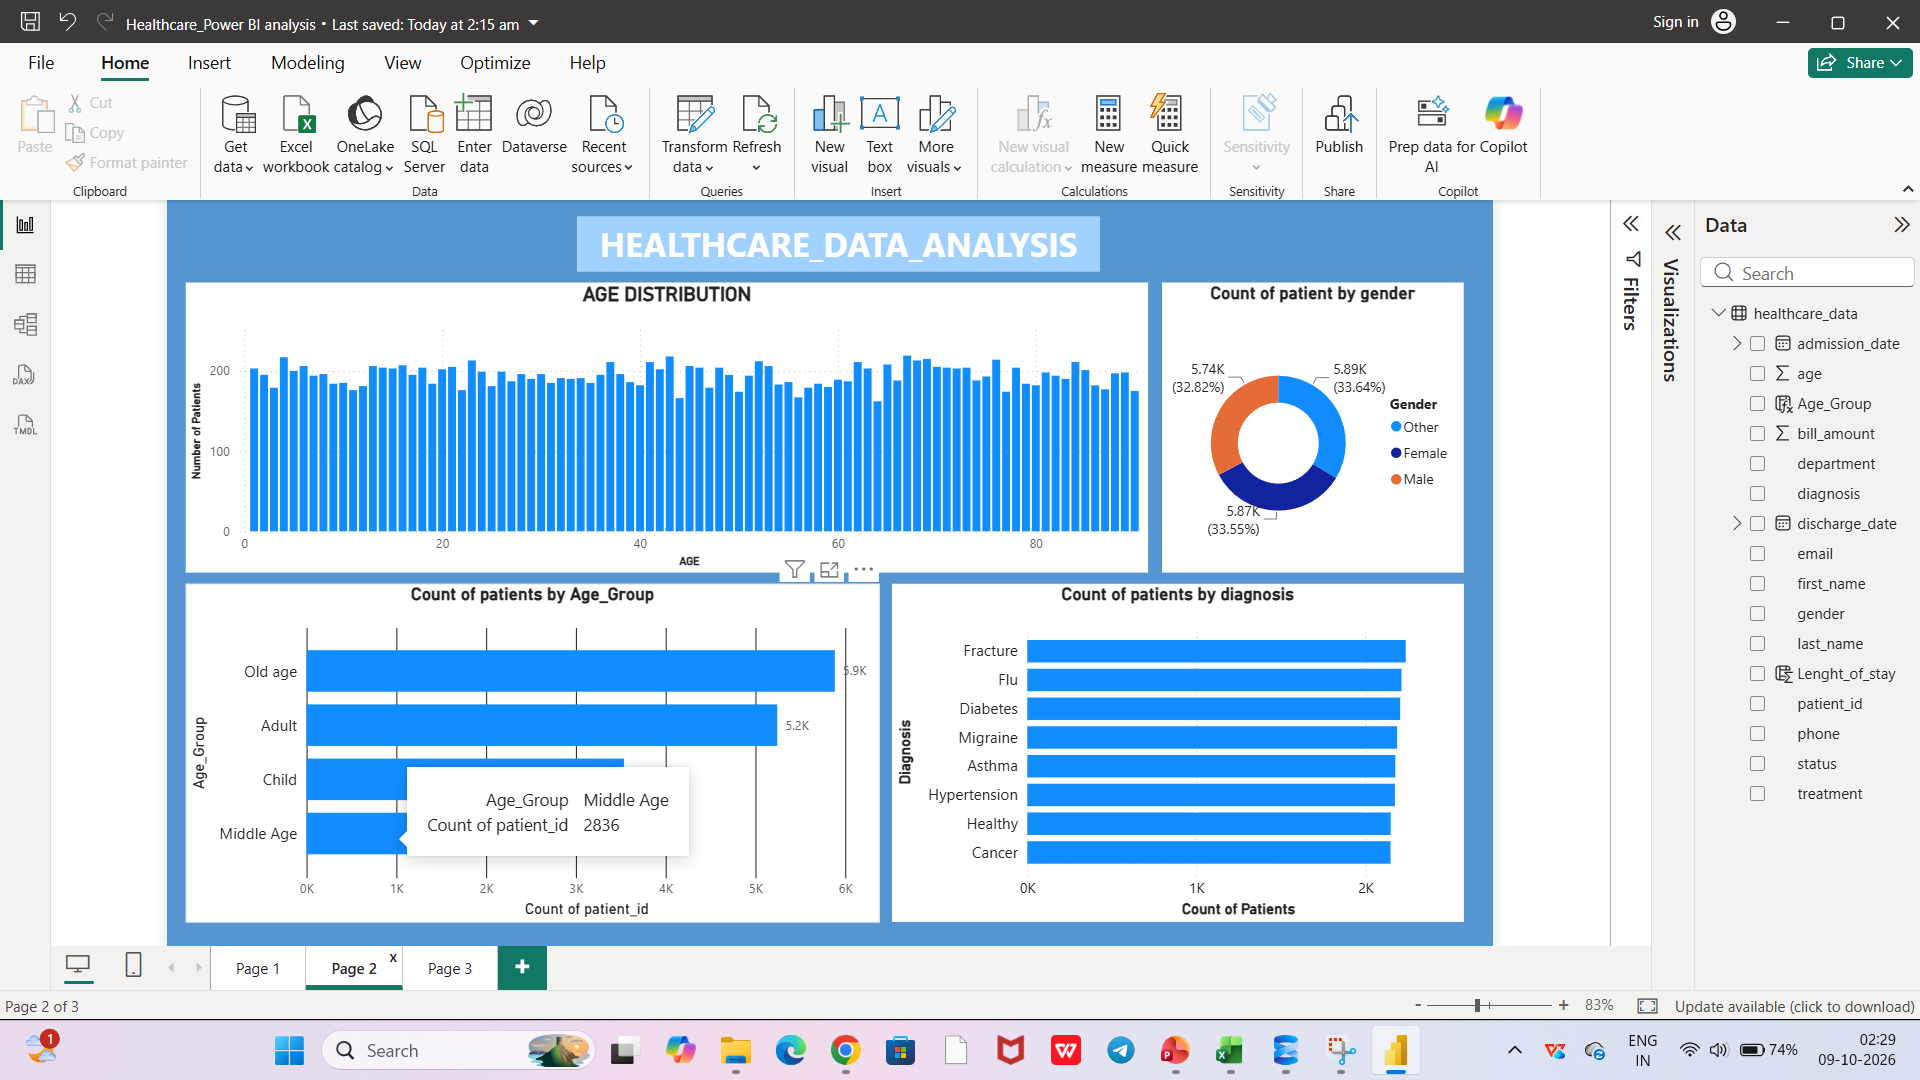

Layout of this report page (visuals, bound fields, positions):
{"tool":"powerbi","page":{"name":"Page 2","canvas":[1280,720],"ordinal":1},"visuals":[{"type":"clusteredColumnChart","title":"AGE DISTRIBUTION","fields":{"Category":["healthcare_data.age"],"Y":["CountNonNull(healthcare_data.patient_id)"]},"box":[17.8,79.6,929,279.9],"z":0},{"type":"textbox","box":[395.2,15.1,505,53.5],"z":1000},{"type":"donutChart","title":"Count of patient by gender","fields":{"Category":["healthcare_data.gender"],"Y":["CountNonNull(healthcare_data.patient_id)"]},"box":[960.6,79.6,290.9,279.9],"z":2000},{"type":"barChart","title":"Count of patients by Age_Group","fields":{"Category":["healthcare_data.Age_Group"],"Y":["CountNonNull(healthcare_data.patient_id)"]},"box":[17.8,370.5,669.6,326.6],"z":3000},{"type":"clusteredBarChart","title":"Count of patients by diagnosis","fields":{"Category":["healthcare_data.diagnosis"],"Y":["CountNonNull(healthcare_data.patient_id)"]},"box":[699.8,370.5,551.6,326.6],"z":4000}]}

Visuals, with their boxes on the page's 1280x720 design canvas (x1, y1, x2, y2). These are canvas units, not pixel positions in the 1920x1080 screenshot, which may show the page scaled, cropped or inside an application window:
"AGE DISTRIBUTION" clusteredColumnChart: 18, 80, 947, 360
textbox: 395, 15, 900, 69
"Count of patient by gender" donutChart: 961, 80, 1252, 360
"Count of patients by Age_Group" barChart: 18, 370, 687, 697
"Count of patients by diagnosis" clusteredBarChart: 700, 370, 1251, 697
